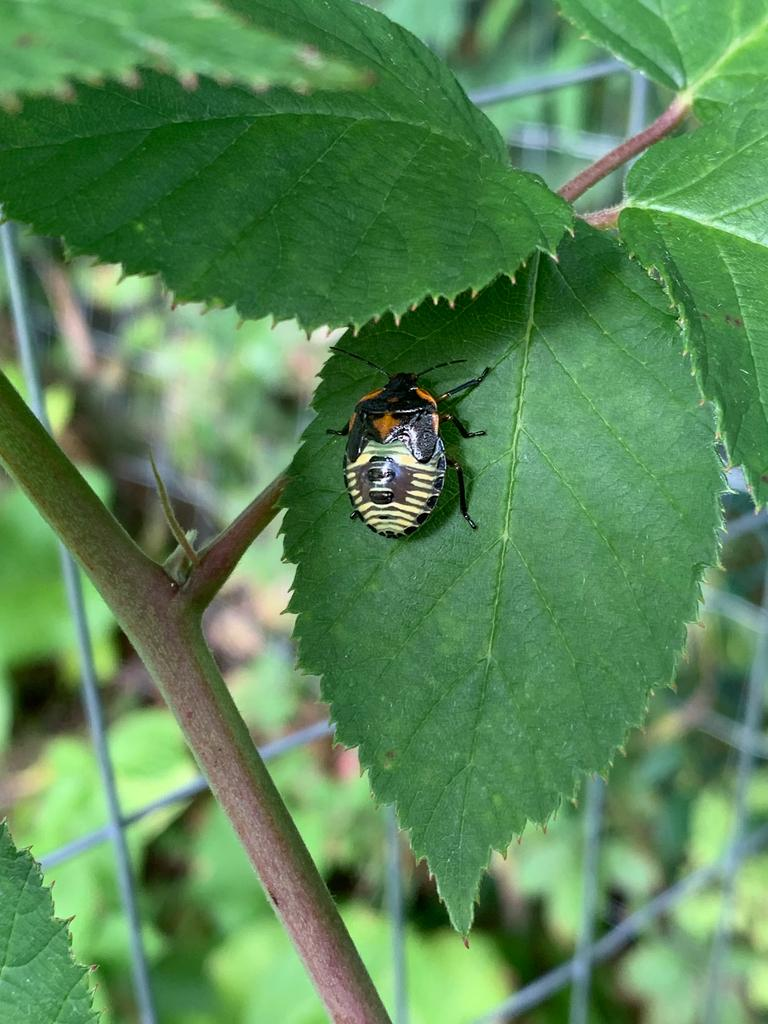stink_bugs: (267, 291, 520, 581)
